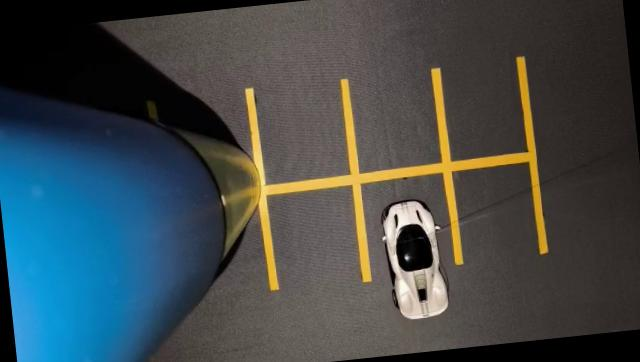toy_car: (352, 176, 468, 338)
